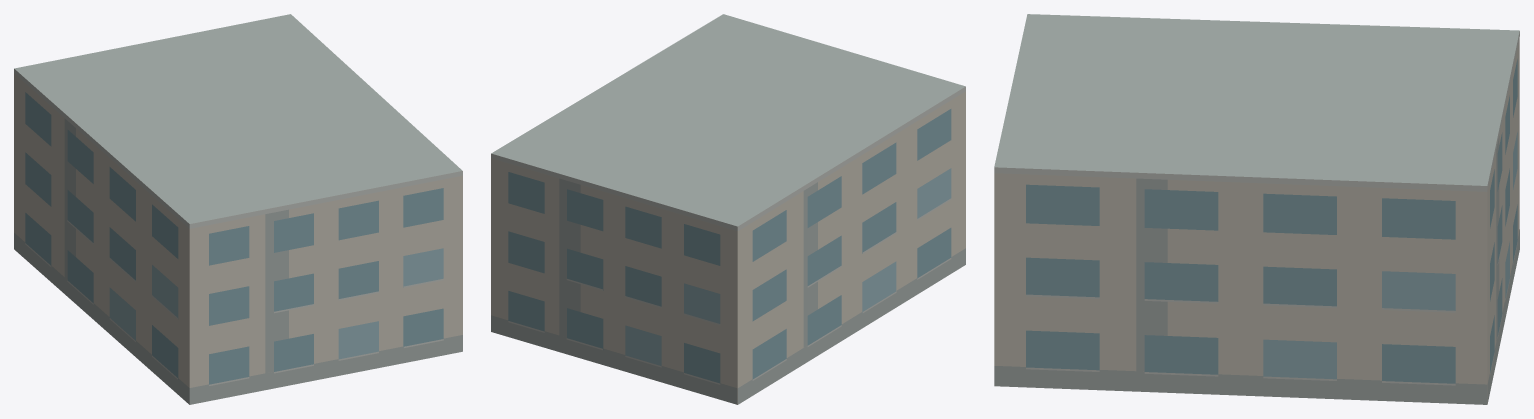
Rendered from survey-upis-32704476.glb.
3 views of the same model, side by side, from view 1: azimuth 30°, elevation 25°; view 2: azimuth 150°, elevation 25°; view 3: azimuth 270°, elevation 25° (orthographic). The views are drawn at different scales.
Visible parts, largest first — view 1: survey-upis-32704476.tmp; view 2: survey-upis-32704476.tmp; view 3: survey-upis-32704476.tmp.
Part boxes in pixels (x1,y1,x2,y2): survey-upis-32704476.tmp: [14, 14, 462, 404]; survey-upis-32704476.tmp: [491, 14, 965, 404]; survey-upis-32704476.tmp: [994, 14, 1519, 404].
Bounding box in the file's own units: 15.44 × 9.15 × 19.93.
